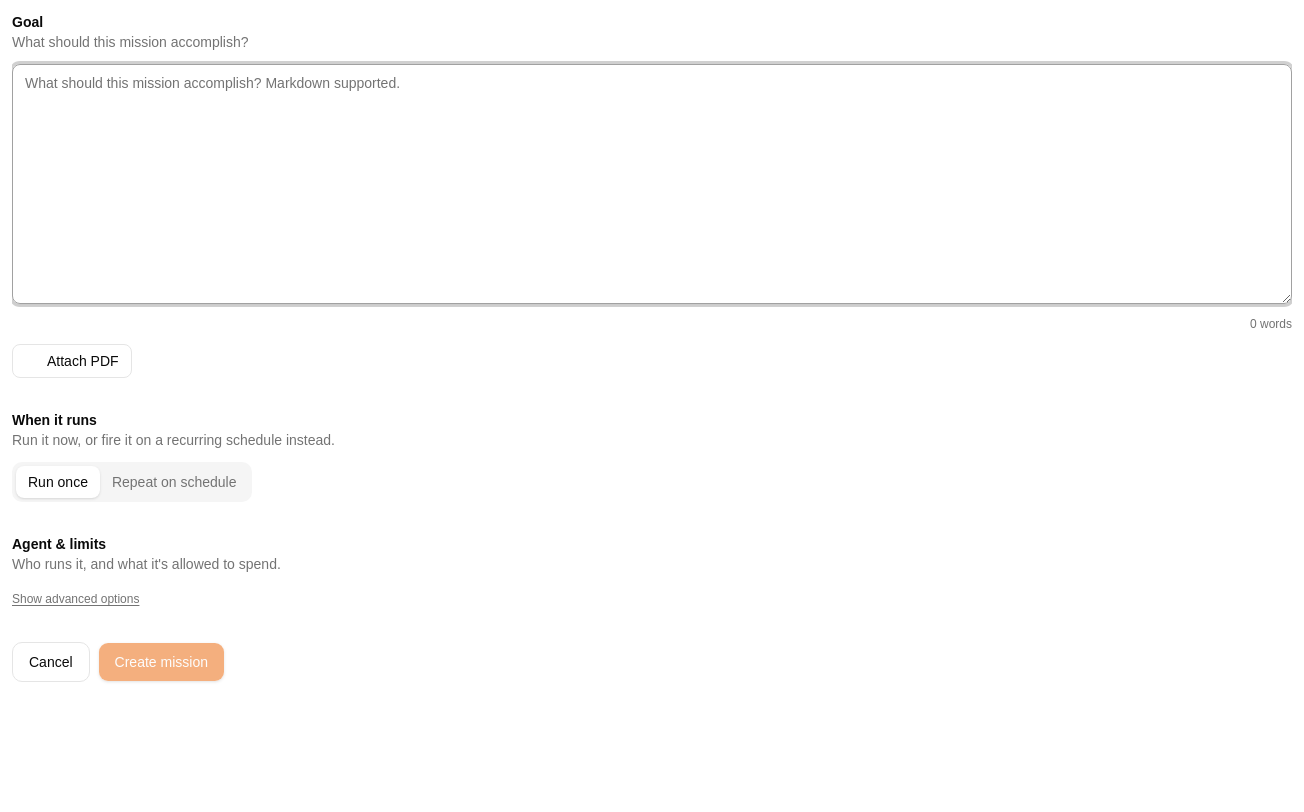
it: MissionForm — harness select placement › omits the harness select for a general mission
Step 1. Type "g" into the text box named "Goal" → (652,184), box x1=12 y1=64 x2=1292 y2=304
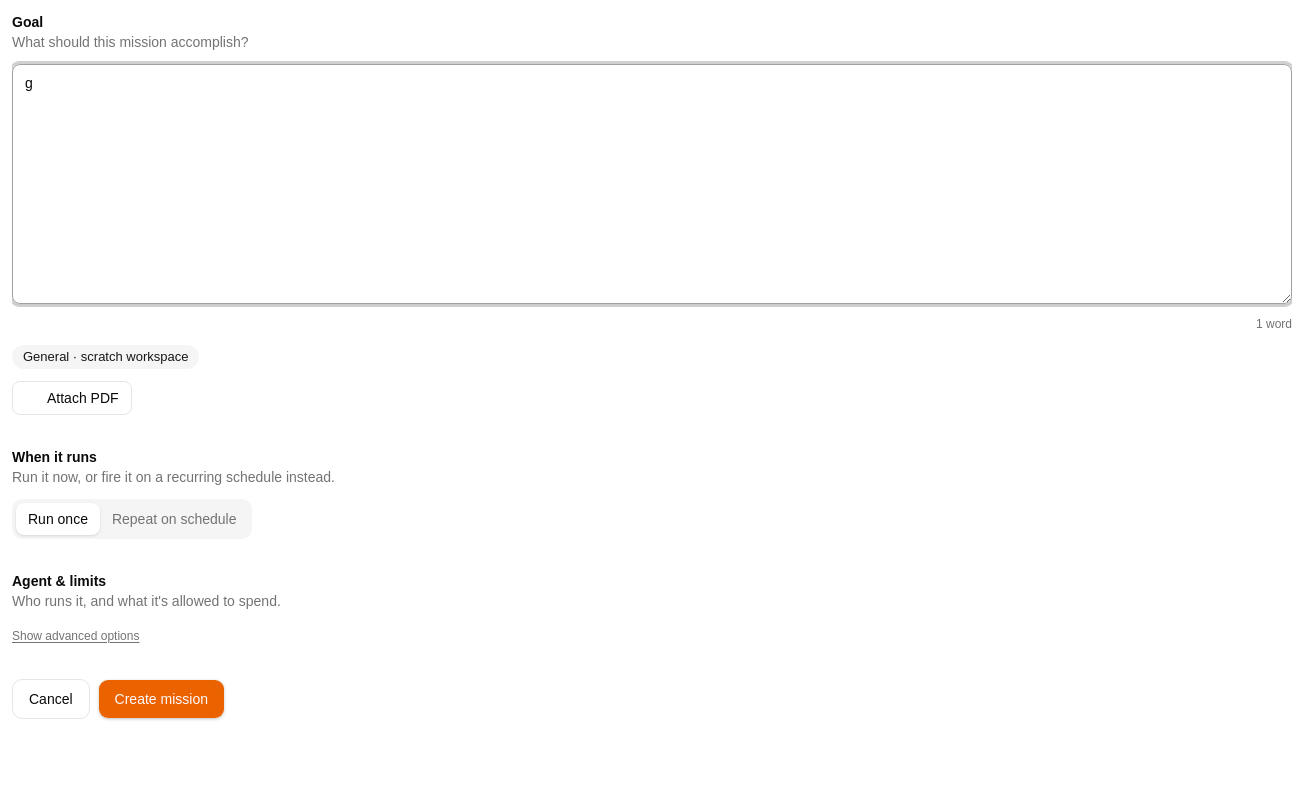
Result: the text "General · scratch workspace" is shown at x1=12 y1=345 x2=200 y2=369
